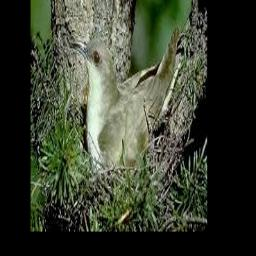Cuckoo: (69, 25, 178, 173)
